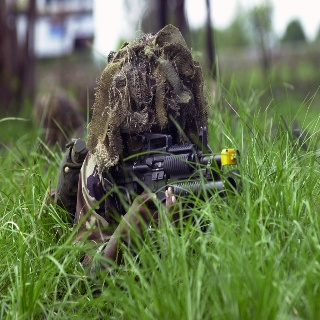rifle: (98, 131, 240, 209)
